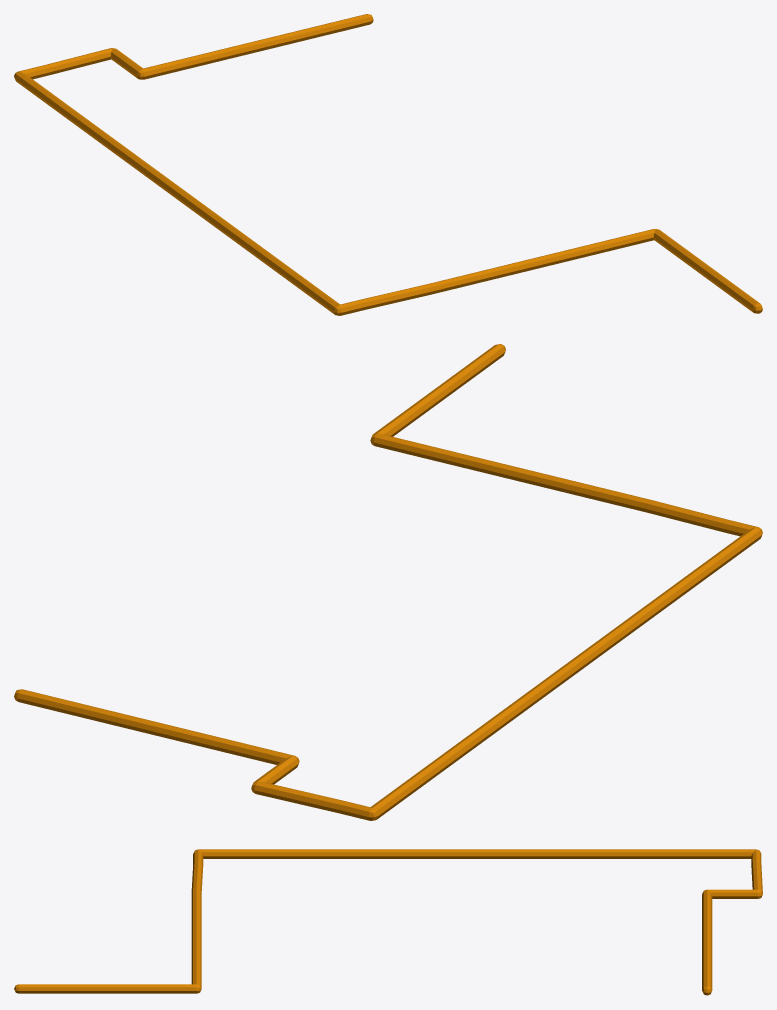
The picture shows the model from 3 angles, top to bottom: view 1: azimuth 30°, elevation 25°; view 2: azimuth 150°, elevation 25°; view 3: azimuth 270°, elevation 25°; orthographic projection. The views are drawn at different scales.
Size of the model in its own units: 657 by 20 by 1476.
